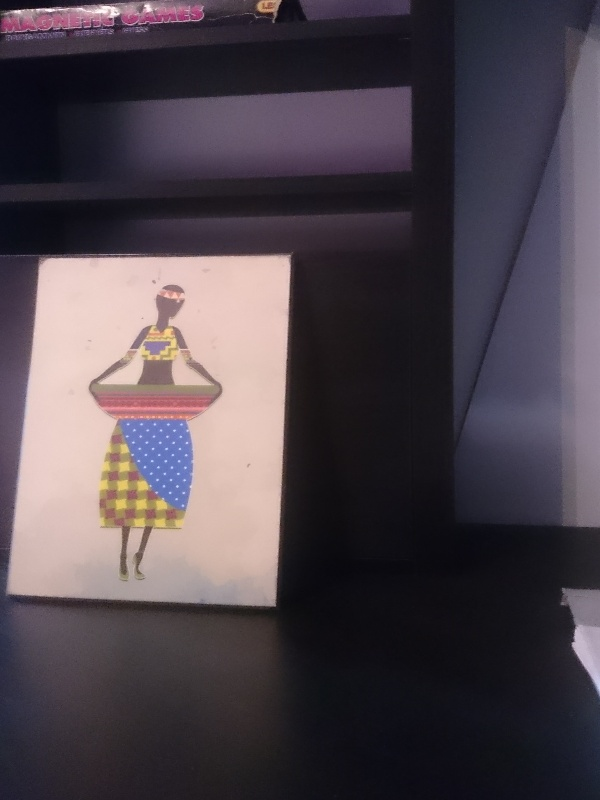my image: (9, 254, 295, 598)
